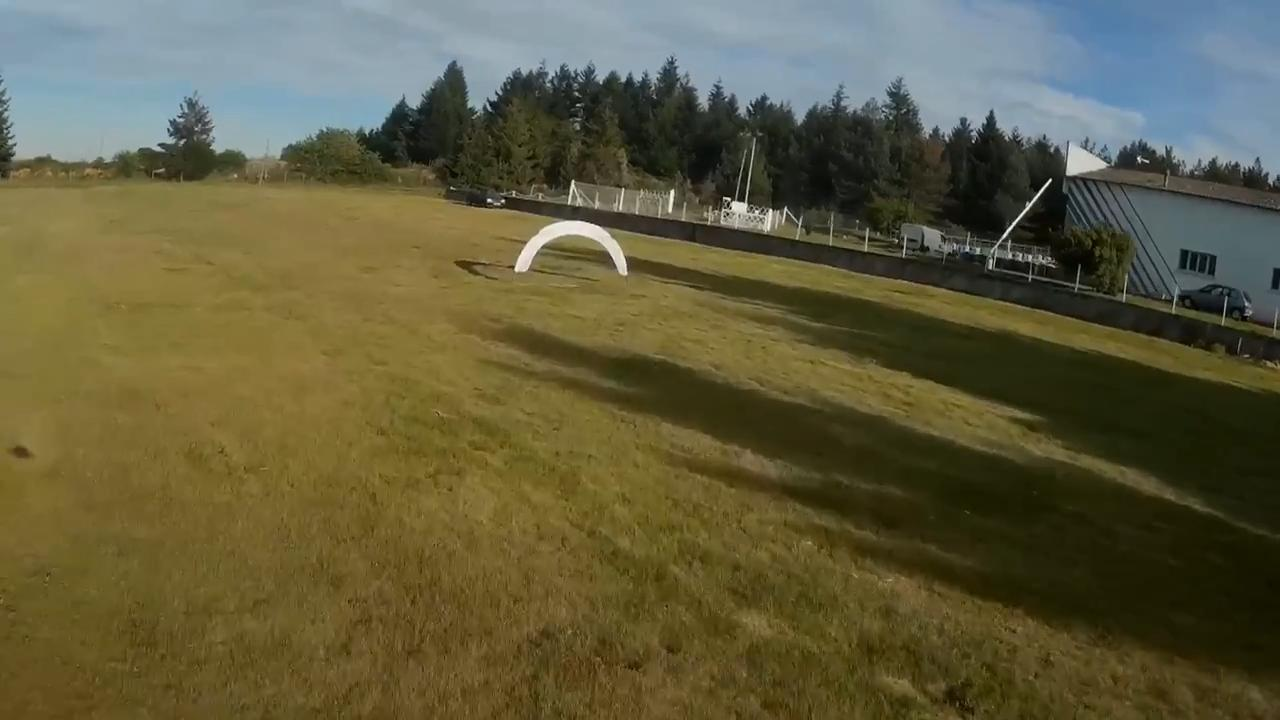gate: (512, 217, 625, 274)
